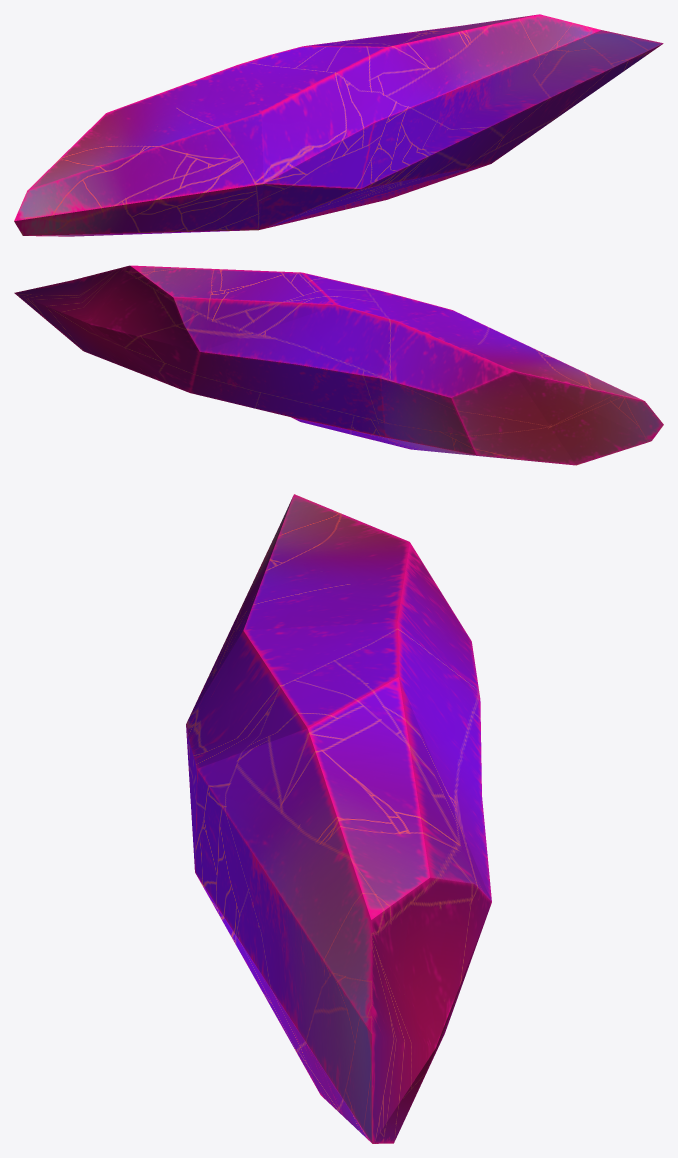
File: crystalProjectiel.fbx
3 views of the same model, one above another, from view 1: azimuth 30°, elevation 25°; view 2: azimuth 150°, elevation 25°; view 3: azimuth 270°, elevation 25° (orthographic). The views are drawn at different scales.
Visible parts, largest first — view 1: CrystalProjectiel; view 2: CrystalProjectiel; view 3: CrystalProjectiel.
Part boxes in pixels (<box>): CrystalProjectiel: <box>14,14,663,236</box>; CrystalProjectiel: <box>14,265,663,465</box>; CrystalProjectiel: <box>186,494,491,1143</box>.
Size of the model in its own units: 12.03 by 2.55 by 2.54.
